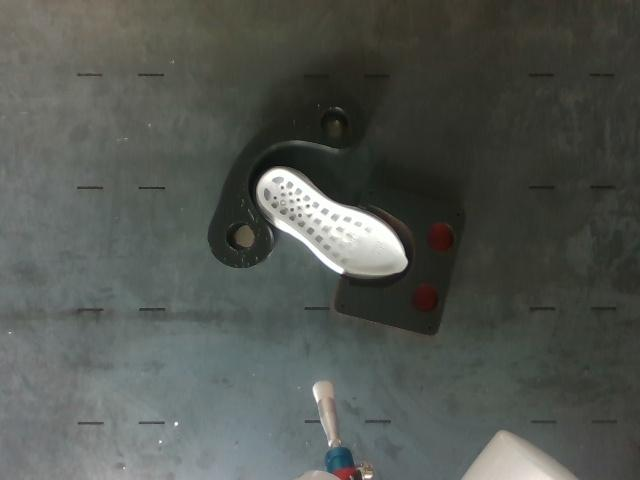shoes: (258, 167, 406, 275)
